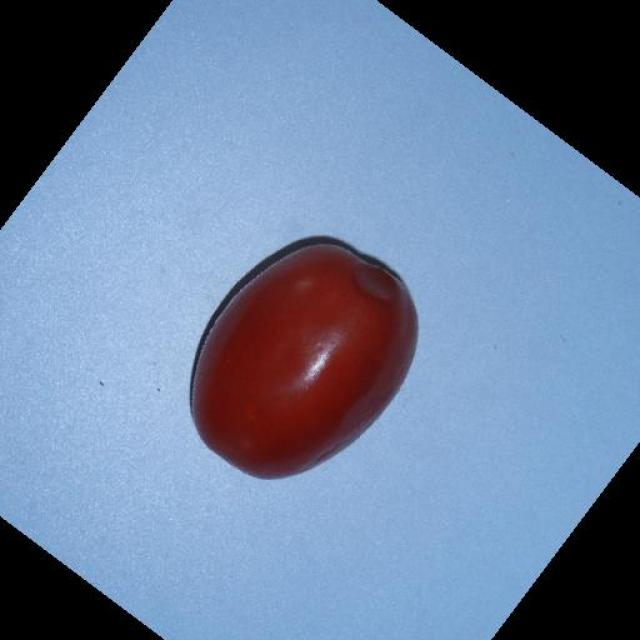Stale_tomato: (179, 224, 426, 495)
